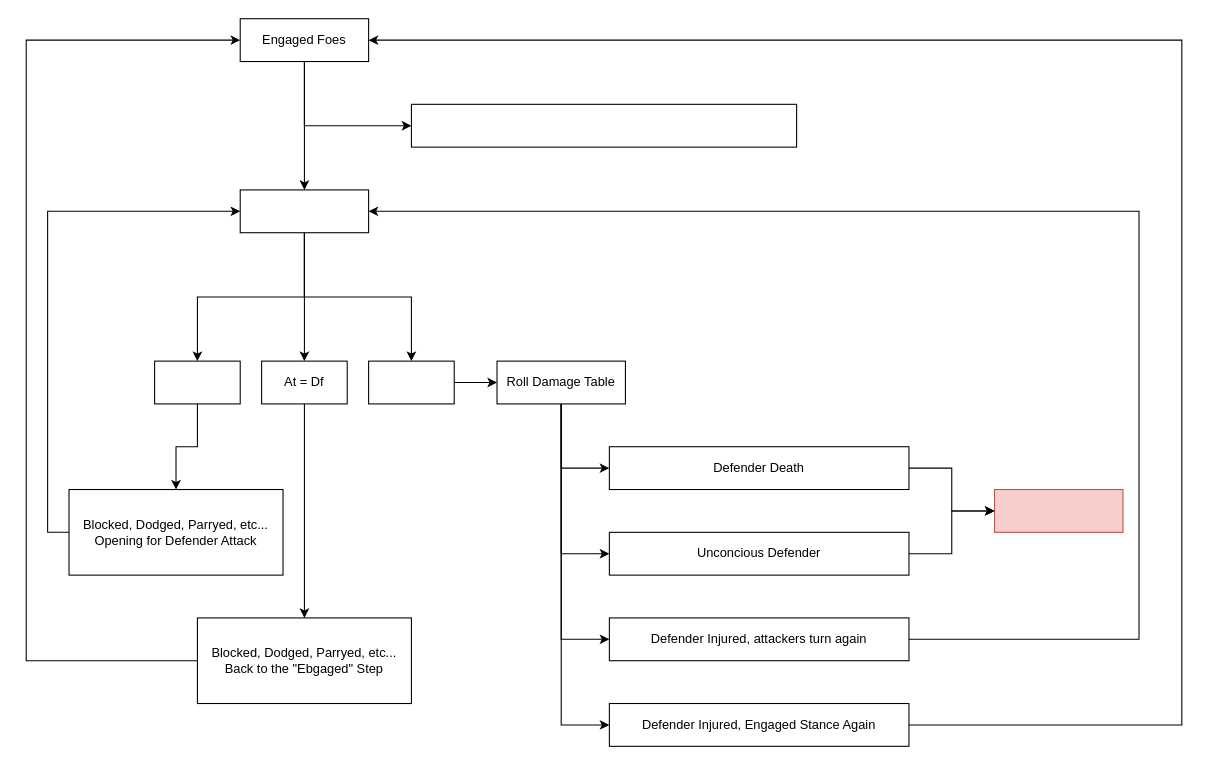
This 1209x765 diagram has some shape labels left out. Each missing label, with the box of its shape:
At < Df: (154, 360, 240, 404)
At > Df: (368, 360, 454, 404)
Attacks: (239, 189, 369, 233)
Characters are interrupted or choose to disingage.: (410, 103, 797, 147)
End of Engagement: (993, 488, 1123, 532)
